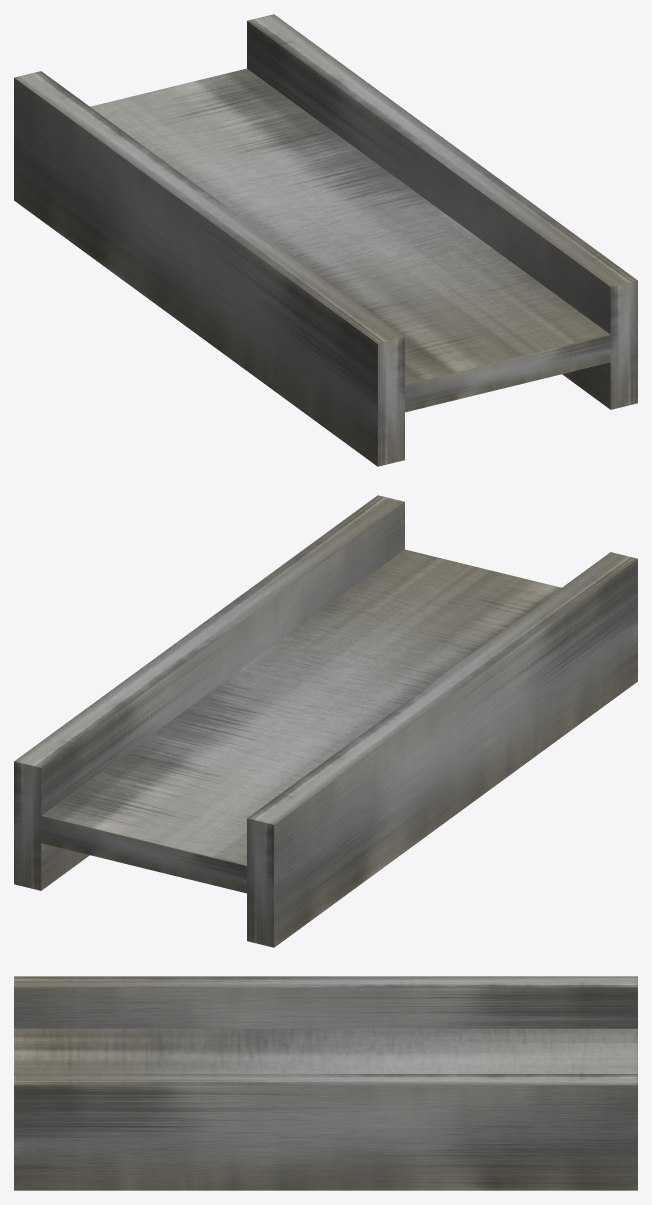
File: ironplate1.fbx
3 views of the same model, one above another, from view 1: azimuth 30°, elevation 25°; view 2: azimuth 150°, elevation 25°; view 3: azimuth 270°, elevation 25° (orthographic). The views are drawn at different scales.
Visible parts, largest first — view 1: ironplate1; view 2: ironplate1; view 3: ironplate1.
Part boxes in pixels (left/top/right/bottom): ironplate1: left=14, top=14, right=637, bottom=466; ironplate1: left=14, top=495, right=637, bottom=947; ironplate1: left=14, top=976, right=637, bottom=1190.
Bounding box in the file's own units: 69.69 × 31.44 × 169.
